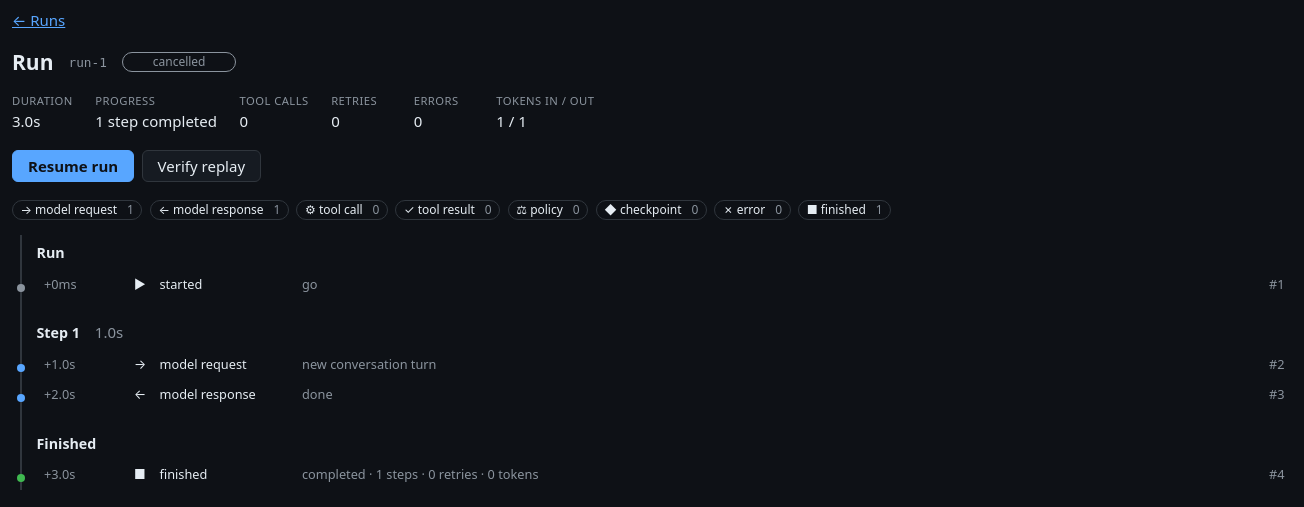
it: RunDetailPage actions › resumes a cancelled run after confirmation
Click the button "Resume run" at (73, 166), box [12,150,134,182]
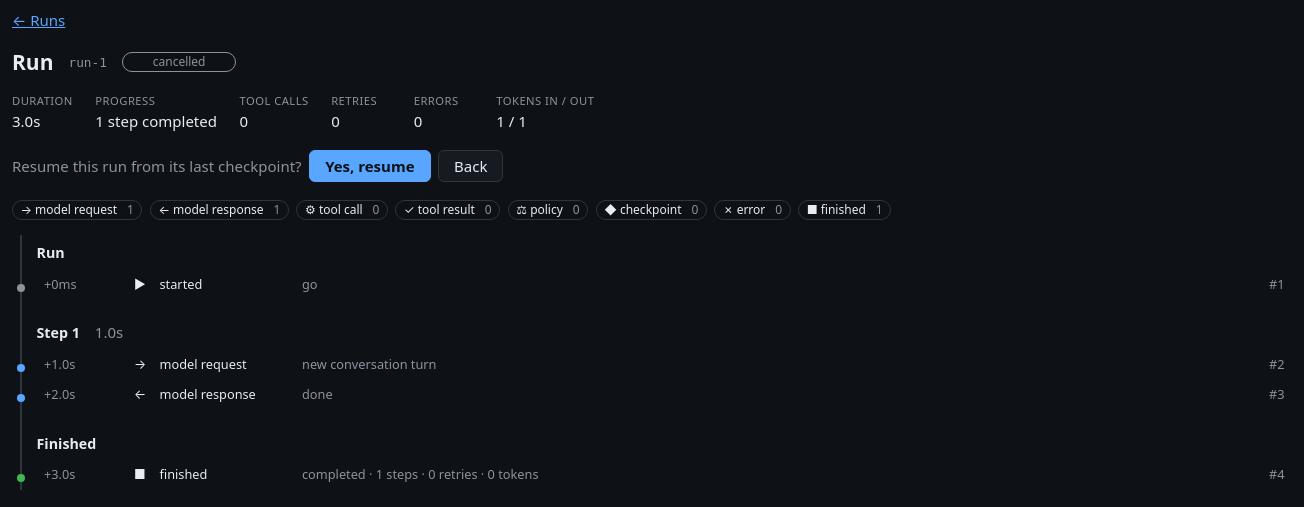
Click the button "Yes, resume" at (370, 166), box [309,150,430,182]
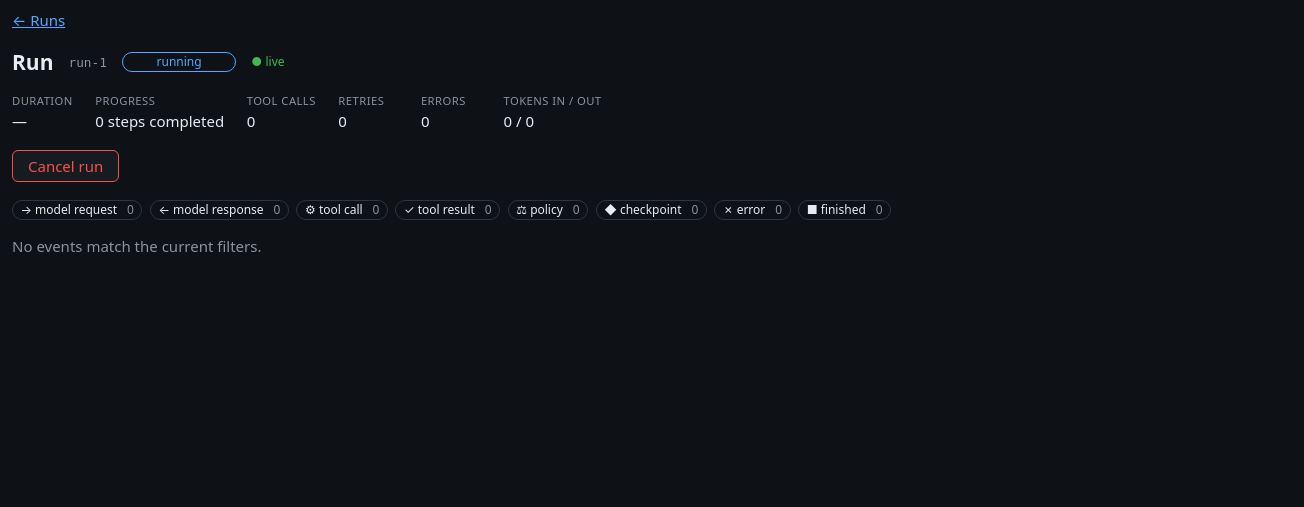
Expected: the button "Cancel run" is shown, [12,150,119,182]
